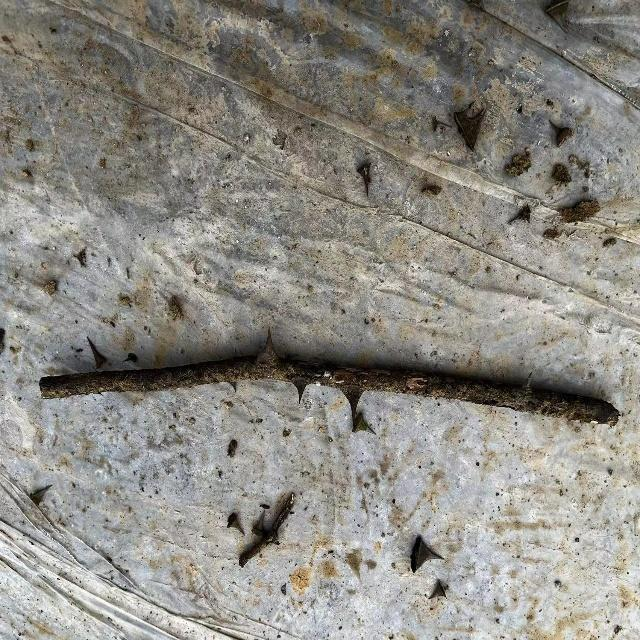branch: (39, 345, 621, 430)
